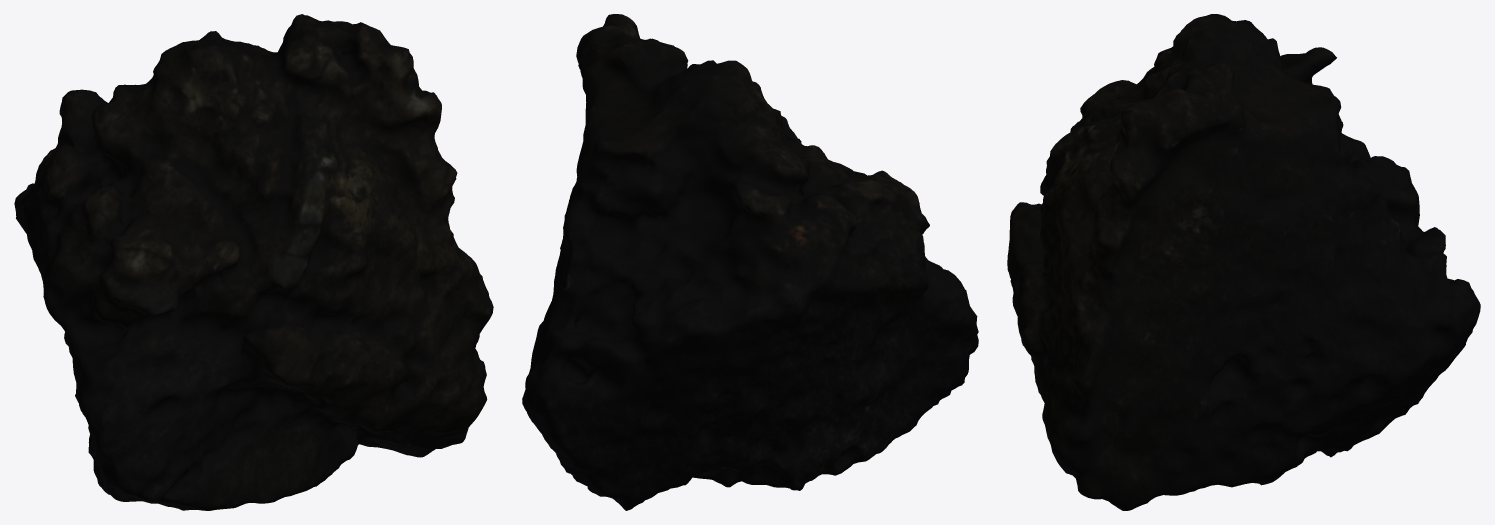
3 renders of one model, left to right at view 1: azimuth 30°, elevation 25°; view 2: azimuth 150°, elevation 25°; view 3: azimuth 270°, elevation 25°, orthographic. The views are drawn at different scales.
Parts seen in each view (by area): view 1: Paricutin_Low; view 2: Paricutin_Low; view 3: Paricutin_Low.
Part boxes in pixels (bbox=[...]): Paricutin_Low: bbox=[14, 14, 493, 510]; Paricutin_Low: bbox=[522, 14, 978, 510]; Paricutin_Low: bbox=[1007, 14, 1480, 510].
Size of the model in its own units: 0.0647 by 0.0635 by 0.0658.
Materials: 1 (1 with a texture image).
